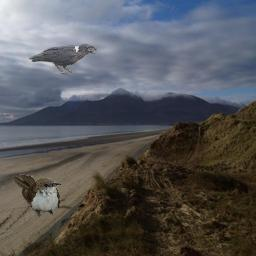Crow: (28, 43, 97, 75)
Cuckoo: (12, 174, 61, 218)
